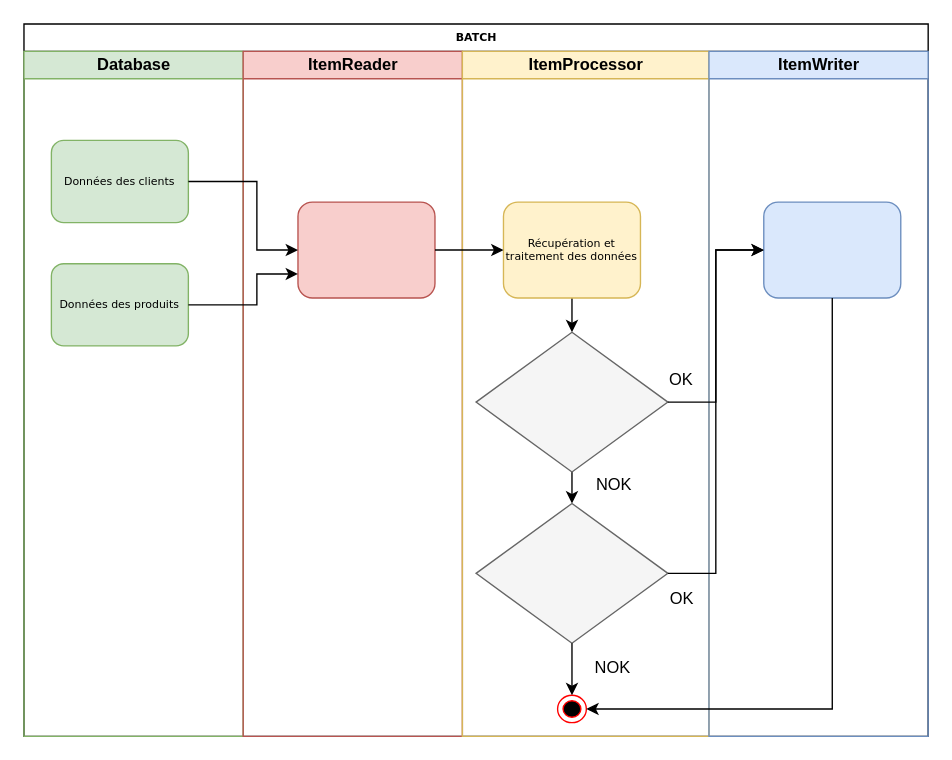
This 952x760 diagram has some shape labels left out. The centre of each missing label's shape, as x and y in pixels:
"Envoi d'un mail au client lié au produit" goes at [831,249].
"Lecture et récupération des données clients/produits" goes at [366,249].
"Produit.date - Date courante = 5 jours ?" goes at [571,572].
"Produit.date = Date courante ?" goes at [571,401].
